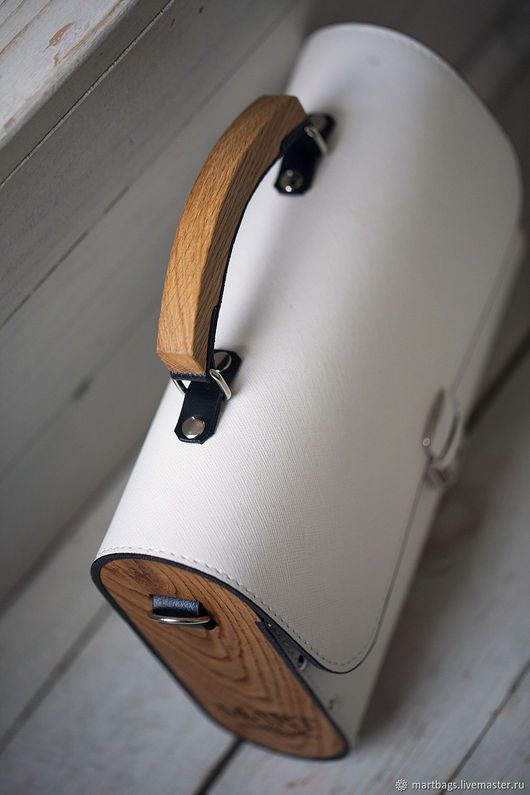cuero: (92, 22, 530, 755)
